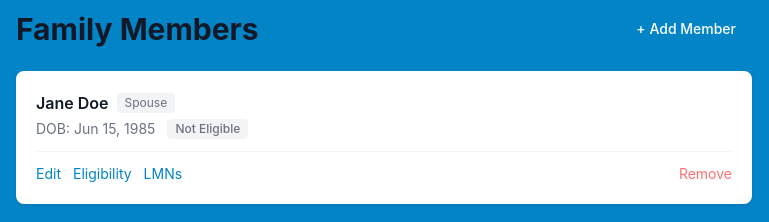
Test case: FamilyMembers page › removes member from list after deactivation
expect the heading "Jane Doe" is shown: met, box [36,91,108,115]
Click the button "Remove": x=705, y=174 [679,164,732,184]
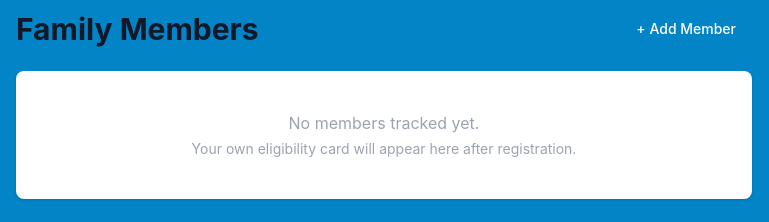
expect the heading "Jane Doe" is gone: met
